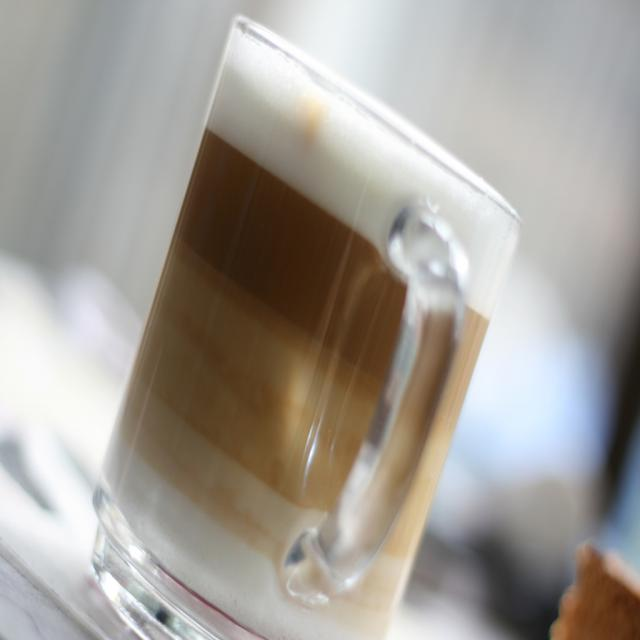Coffee: (106, 24, 534, 640)
